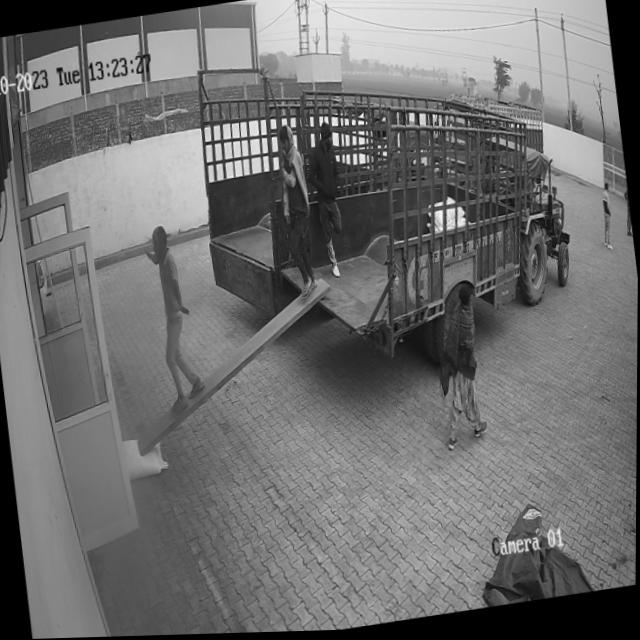sack: (123, 434, 170, 482)
